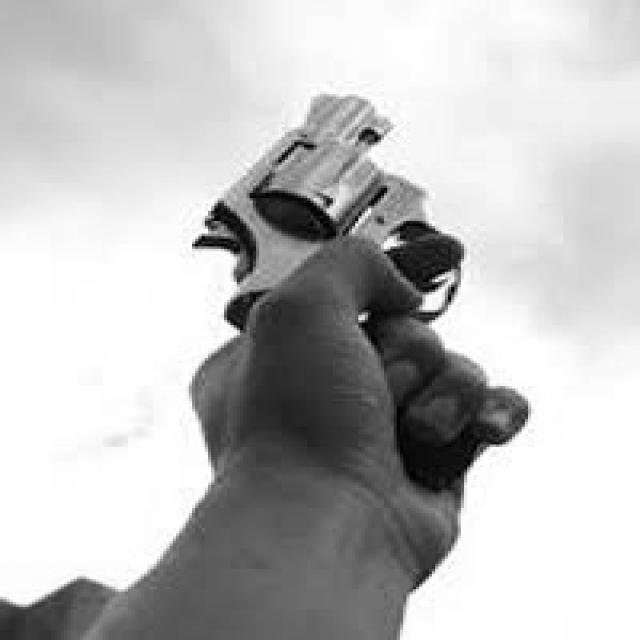gun: (188, 89, 490, 490)
